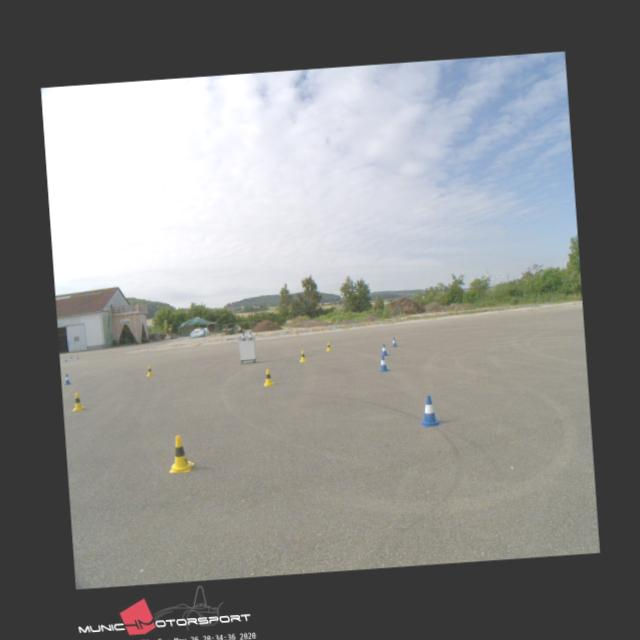blue_cone: (418, 394, 440, 426), (377, 355, 388, 371), (378, 342, 386, 354), (63, 374, 70, 384), (391, 336, 396, 346), (241, 332, 246, 341), (248, 331, 252, 340), (64, 356, 67, 362), (76, 354, 79, 358), (70, 354, 72, 358)
yellow_cone: (166, 434, 193, 472), (70, 391, 84, 411), (262, 368, 274, 386), (298, 349, 306, 362), (145, 364, 152, 376), (325, 342, 331, 351)
